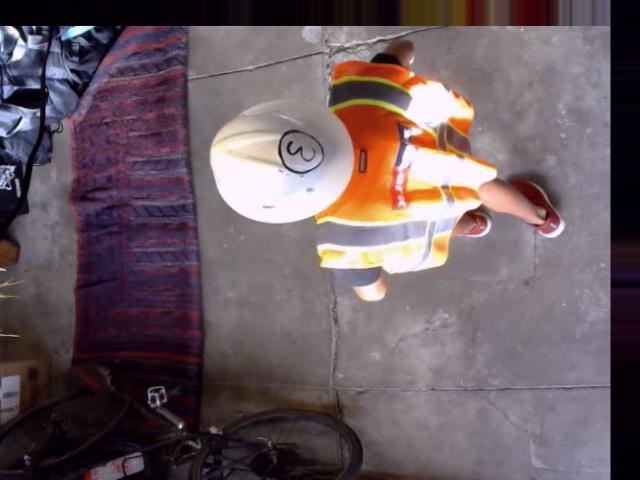three: (279, 128, 325, 173)
